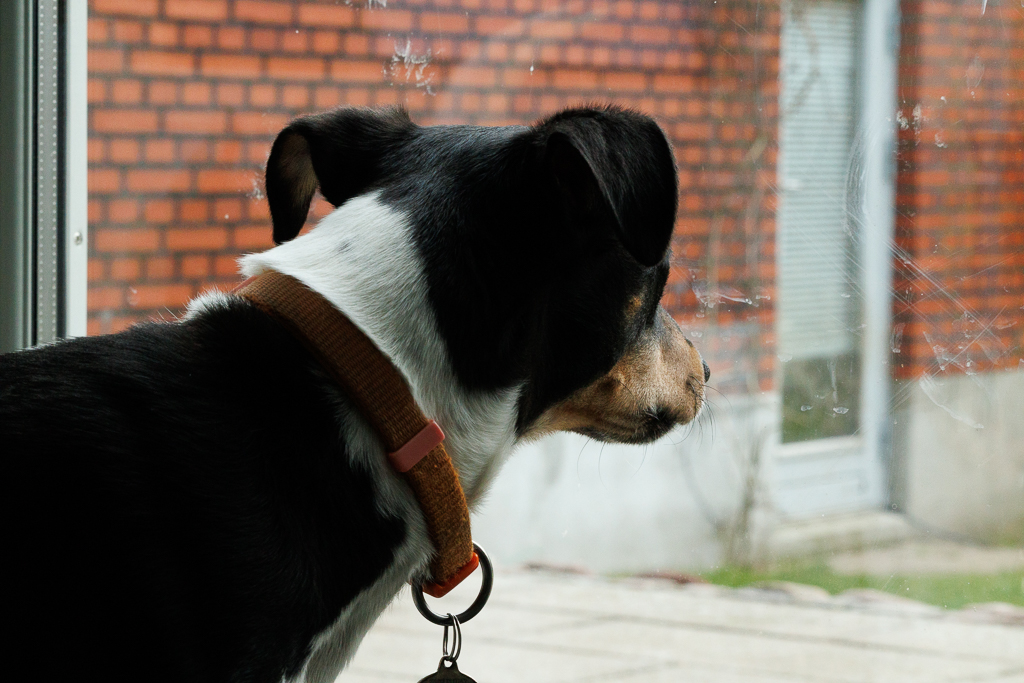Dog: (0, 97, 739, 683)
